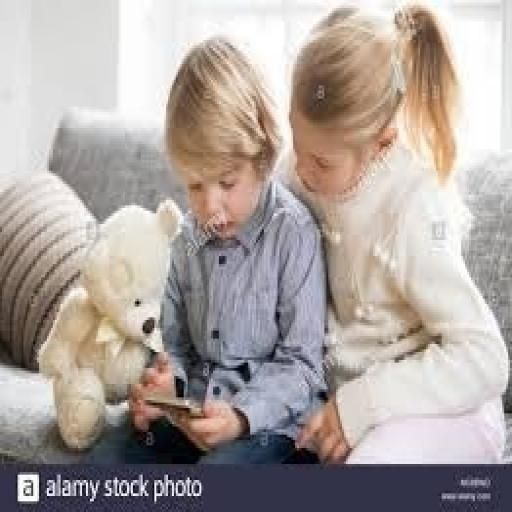texting: (125, 32, 330, 467)
